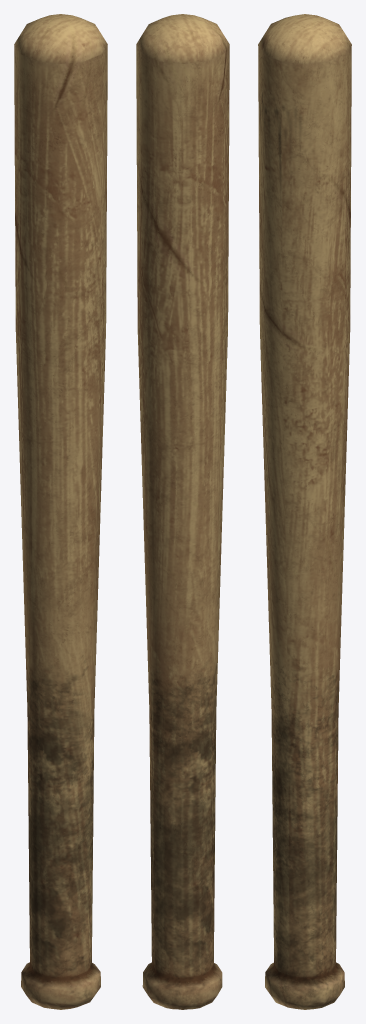
File: Bat.fbx
3 renders of one model, left to right at view 1: azimuth 90°, elevation 25°; view 2: azimuth 150°, elevation 25°; view 3: azimuth 270°, elevation 25°, orthographic.
Visible parts, largest first — view 1: Bat; view 2: Bat; view 3: Bat.
Part boxes in pixels (box(x1,y1,x2,y2)): Bat: box(14, 14, 107, 1009); Bat: box(136, 14, 229, 1009); Bat: box(258, 14, 351, 1009).
Size of the model in its own units: 8.68 by 101 by 8.7.
